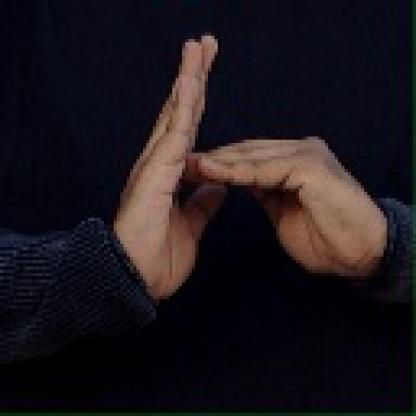Z: (110, 21, 366, 288)
